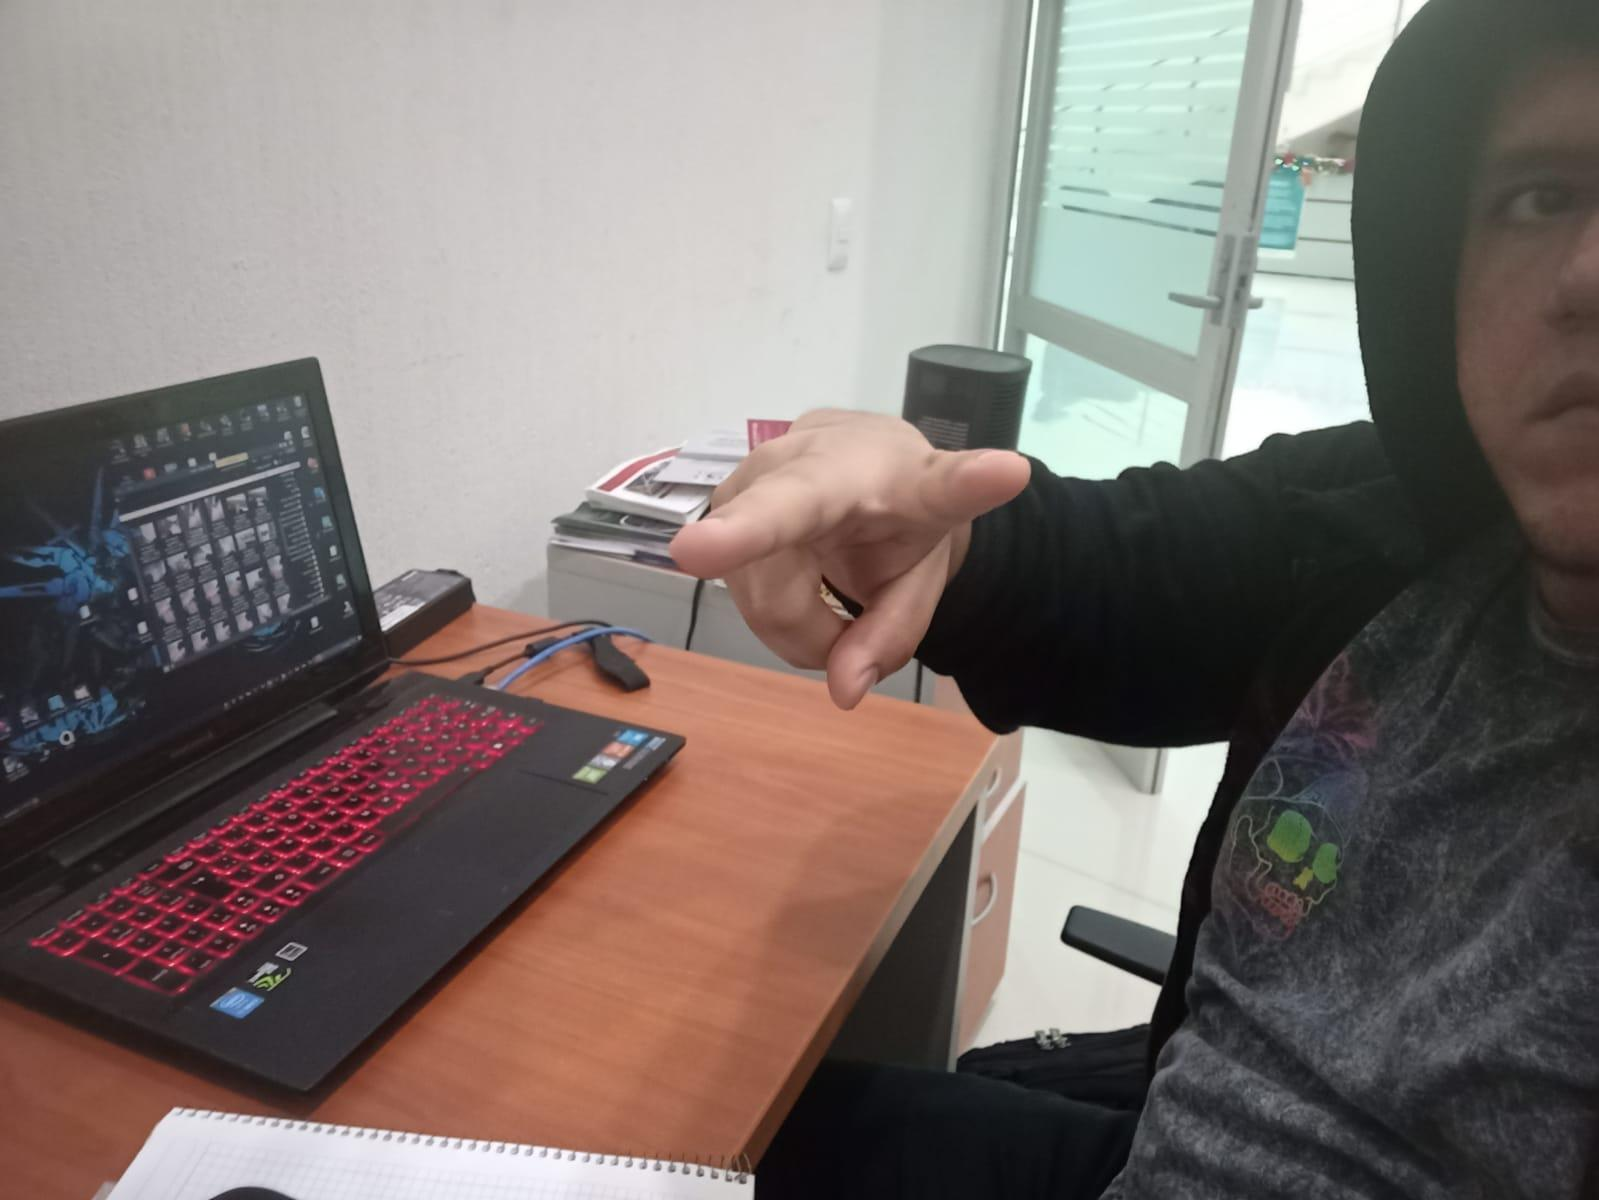Scissor: (644, 358, 1055, 731)
